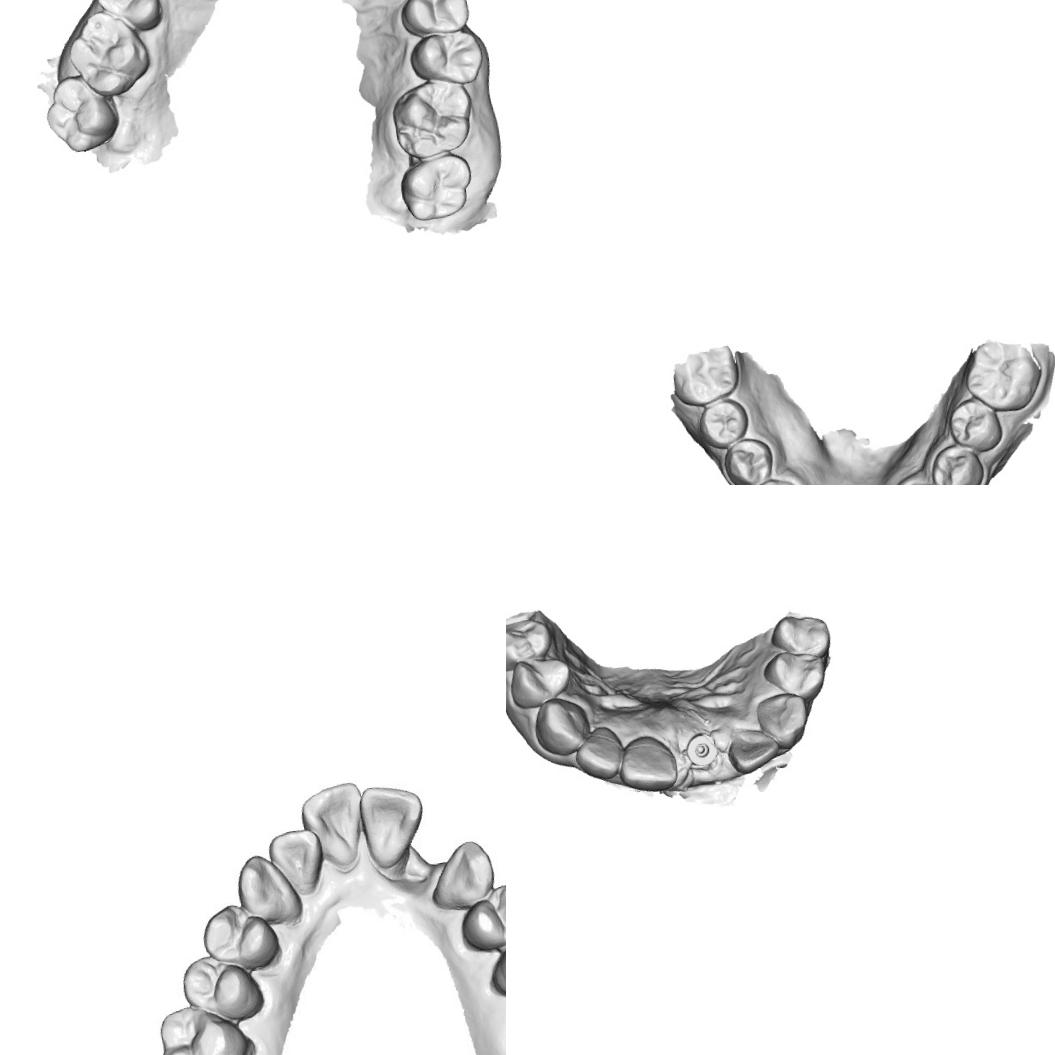canine: (229, 849, 300, 927), (427, 837, 498, 910), (530, 693, 594, 760), (753, 689, 813, 753)
implant: (682, 730, 720, 768)
incisor: (357, 778, 432, 870), (297, 782, 368, 872), (613, 730, 681, 796), (570, 724, 627, 785), (270, 828, 322, 892), (724, 723, 782, 776)
molar: (60, 3, 157, 104), (386, 74, 482, 163), (39, 68, 124, 160), (959, 332, 1047, 418), (394, 144, 481, 226), (149, 997, 259, 1055), (668, 337, 742, 411)
premolar: (195, 893, 279, 980), (176, 948, 266, 1028), (402, 24, 489, 95), (760, 646, 830, 710), (452, 881, 506, 957), (506, 652, 574, 711), (945, 394, 1006, 458), (766, 609, 833, 666), (393, 0, 475, 42), (694, 395, 752, 452), (506, 615, 557, 673), (90, 0, 165, 39), (720, 434, 777, 485), (927, 440, 988, 485), (483, 920, 506, 1001)
